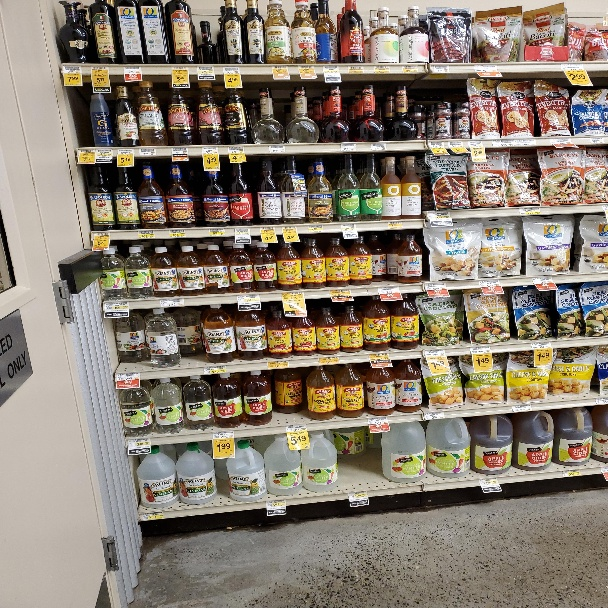All PRICE TAGS: (204, 365, 227, 374), (104, 301, 129, 309), (129, 438, 151, 447), (160, 298, 184, 306), (425, 349, 446, 358), (212, 430, 235, 438), (118, 372, 141, 380), (237, 294, 260, 302), (561, 63, 584, 71), (492, 139, 514, 147), (368, 353, 389, 361), (470, 345, 491, 353), (474, 65, 498, 72), (268, 360, 288, 368), (281, 292, 303, 299), (519, 208, 541, 215), (141, 513, 163, 520), (266, 500, 285, 508), (319, 356, 338, 364), (551, 138, 572, 145), (426, 283, 447, 290), (515, 139, 536, 146), (287, 425, 307, 432), (379, 286, 399, 293), (531, 342, 551, 349), (425, 412, 445, 419), (531, 277, 554, 283), (259, 226, 276, 234), (93, 232, 110, 240), (63, 65, 80, 73), (349, 492, 368, 499), (369, 417, 388, 424), (512, 405, 531, 412), (478, 281, 500, 287), (282, 225, 298, 233), (371, 142, 387, 150), (340, 143, 356, 151), (429, 212, 450, 218), (91, 66, 109, 73), (330, 289, 350, 295), (434, 65, 449, 73), (324, 65, 339, 73), (171, 147, 188, 154), (79, 149, 96, 156), (124, 66, 141, 73), (173, 66, 190, 73), (480, 479, 499, 485), (209, 228, 225, 235), (169, 229, 185, 236), (270, 145, 286, 152), (202, 147, 218, 154), (374, 65, 390, 72), (404, 65, 420, 72), (97, 148, 113, 155), (341, 223, 356, 230), (308, 225, 323, 232), (229, 146, 244, 153), (429, 141, 444, 148), (299, 66, 314, 73), (348, 65, 363, 72), (140, 148, 155, 155), (564, 470, 581, 476), (198, 67, 215, 73), (388, 221, 402, 228), (449, 141, 463, 148), (119, 148, 133, 155), (224, 67, 240, 73), (595, 397, 608, 404), (235, 228, 250, 234), (138, 230, 153, 236), (468, 141, 483, 147), (273, 66, 288, 72), (590, 137, 604, 143)
